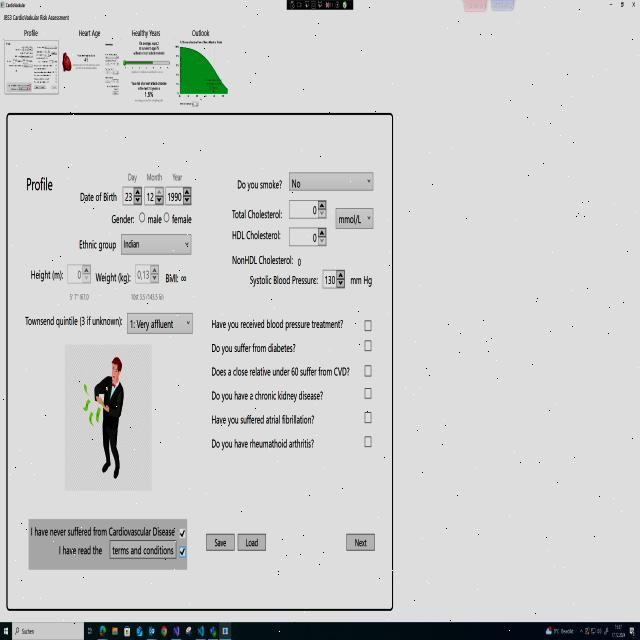button: (107, 539, 177, 564), (203, 527, 236, 556), (236, 527, 269, 556), (344, 528, 377, 556), (616, 0, 629, 12), (628, 0, 640, 12), (605, 0, 616, 12)
checkbox: (363, 408, 372, 427), (364, 433, 374, 449), (363, 385, 373, 400), (363, 317, 372, 333), (363, 362, 372, 378), (364, 338, 372, 355), (178, 526, 186, 541), (178, 545, 186, 559)
dropdownMenu: (288, 164, 375, 194), (125, 307, 195, 338), (120, 232, 194, 257), (334, 206, 375, 231), (554, 628, 584, 636)
icon: (210, 625, 217, 638), (629, 626, 636, 639), (99, 625, 106, 637), (173, 625, 180, 637), (185, 625, 192, 637), (124, 626, 130, 638), (198, 625, 204, 637), (136, 626, 143, 636), (161, 625, 167, 636), (546, 625, 552, 636), (112, 626, 118, 636), (148, 626, 154, 635), (596, 627, 602, 635), (4, 626, 8, 636), (88, 626, 92, 636), (585, 627, 590, 635), (591, 628, 596, 636), (604, 627, 608, 635)
input: (12, 619, 84, 640)
label: (210, 363, 354, 381), (210, 316, 345, 334), (27, 521, 175, 537), (210, 409, 319, 430), (208, 387, 328, 405), (22, 310, 124, 331), (209, 435, 318, 451), (210, 340, 299, 356), (230, 252, 306, 270), (247, 273, 320, 291), (22, 166, 60, 198), (93, 263, 132, 291), (229, 204, 285, 222), (234, 177, 286, 196), (1, 10, 71, 24), (230, 225, 283, 243), (55, 541, 105, 559), (76, 185, 120, 205), (74, 235, 117, 254), (27, 264, 64, 284), (350, 272, 378, 294), (127, 292, 169, 305), (164, 268, 189, 288), (130, 26, 165, 39), (64, 291, 90, 307), (172, 212, 197, 228), (109, 214, 137, 228), (144, 165, 165, 182), (76, 27, 105, 39), (124, 163, 140, 183), (188, 26, 213, 37), (169, 167, 185, 183), (147, 214, 162, 225), (24, 28, 40, 38)
menu: (0, 621, 640, 640)
radio: (138, 210, 146, 224), (163, 210, 170, 224)
tabControl: (220, 623, 231, 639)
upDown: (287, 222, 328, 248), (287, 196, 328, 221), (135, 260, 161, 287), (322, 265, 347, 291), (66, 260, 90, 287), (165, 184, 193, 207), (121, 183, 142, 209), (144, 184, 164, 207)
